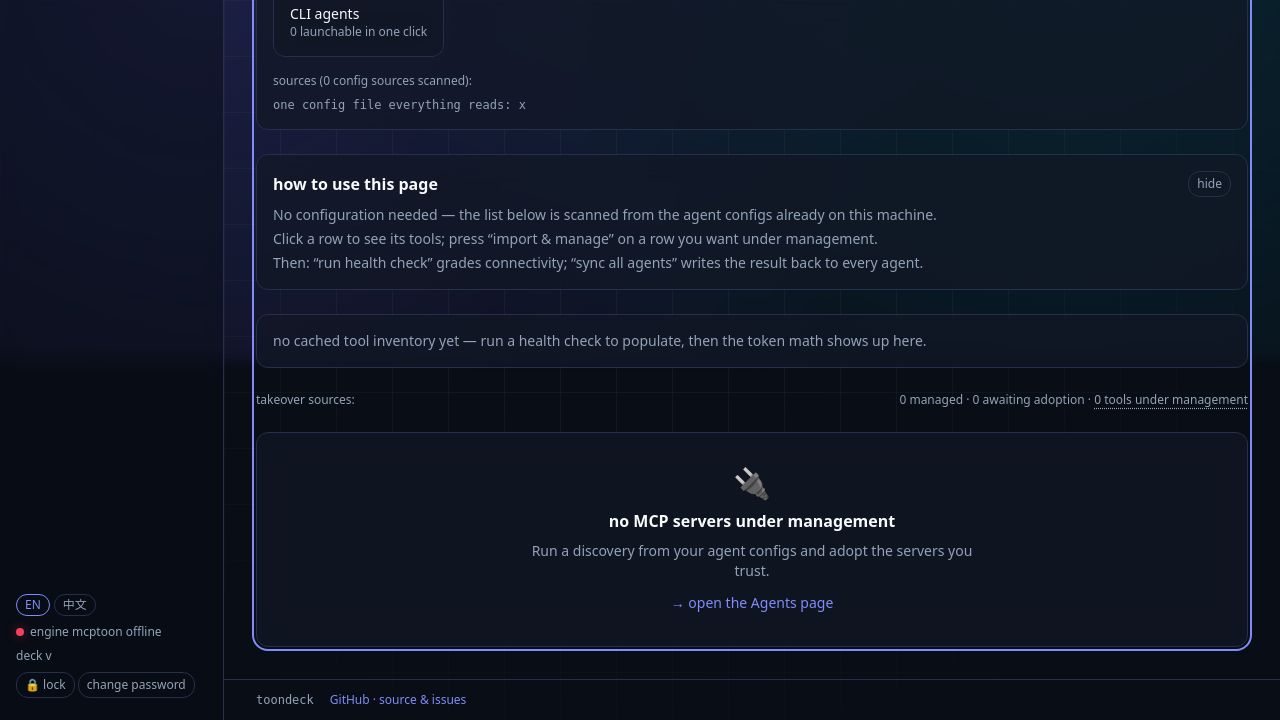
Scenario: R53: portal gate › change-password form posts current+new and reports the outcome
(page scrolled)
Click the button with test id "portal-change": (136, 685) [78,672,195,698]
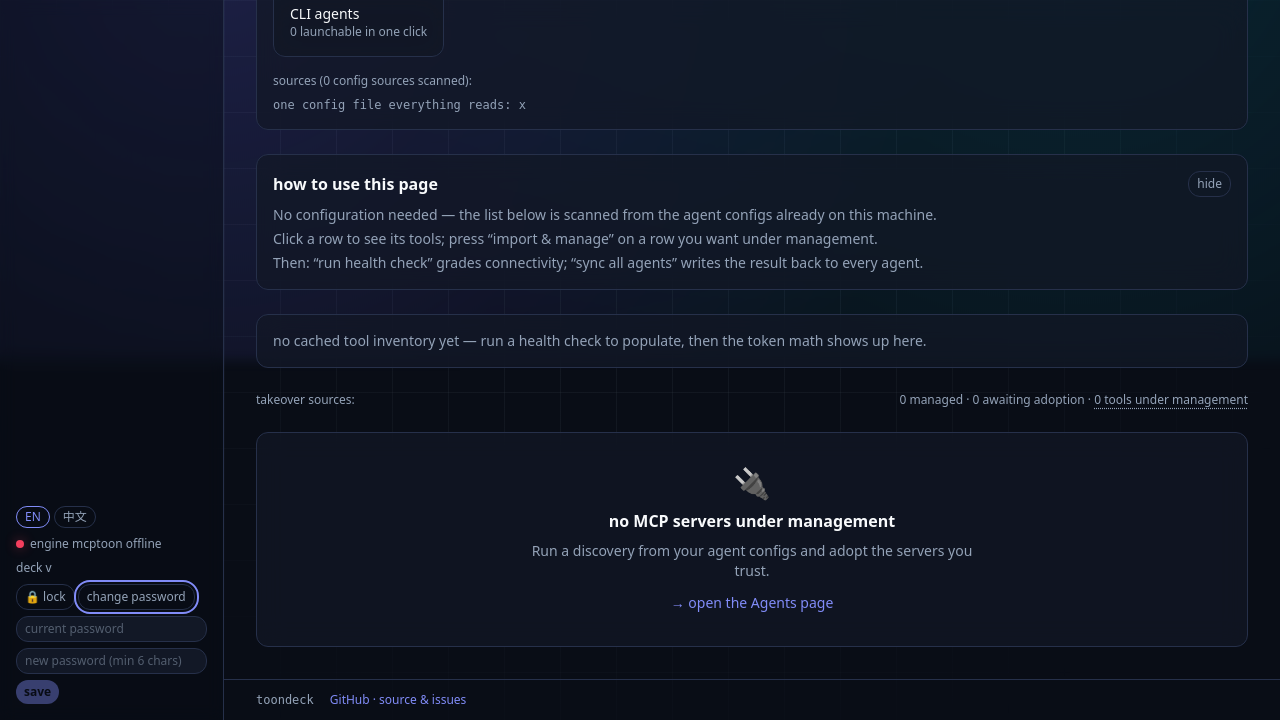
In the password field with test id "portal-cur": (112, 629) [16,616,207,642], type "admin123"
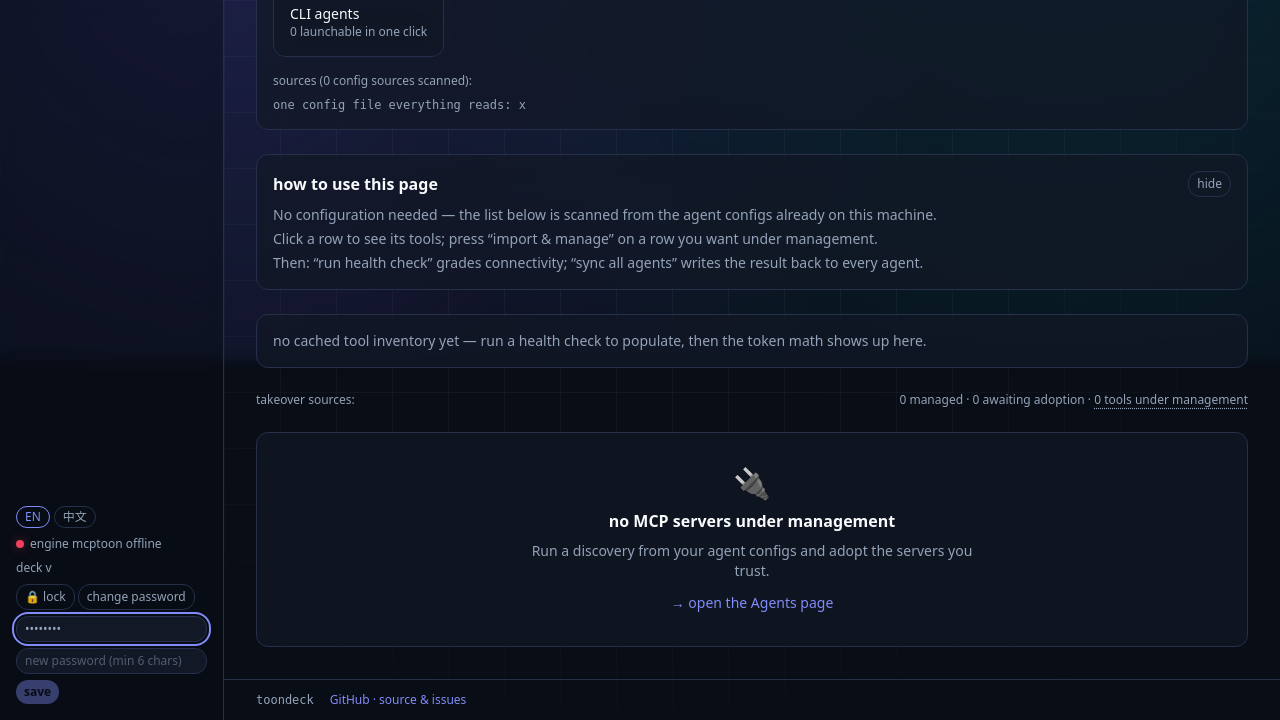
In the password field with test id "portal-new": (112, 661) [16,648,207,674], type "hunter22"
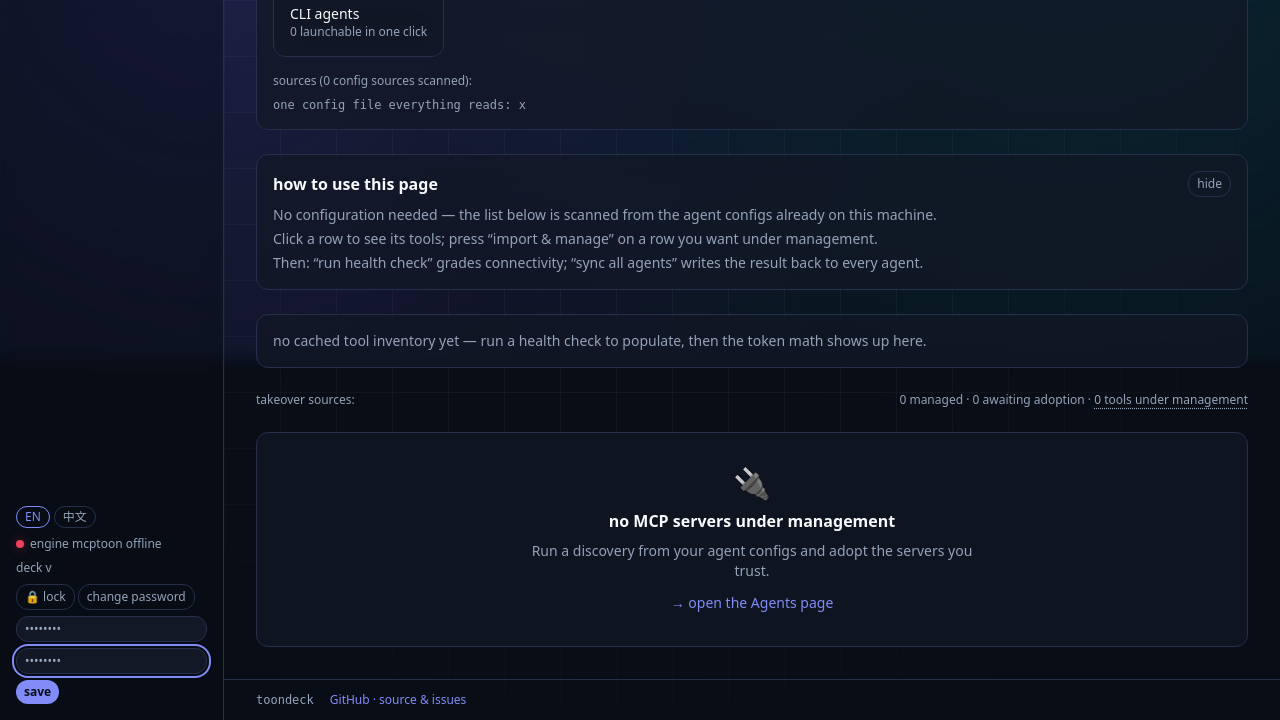
Click the button with test id "portal-save": (38, 692) [16,680,59,704]
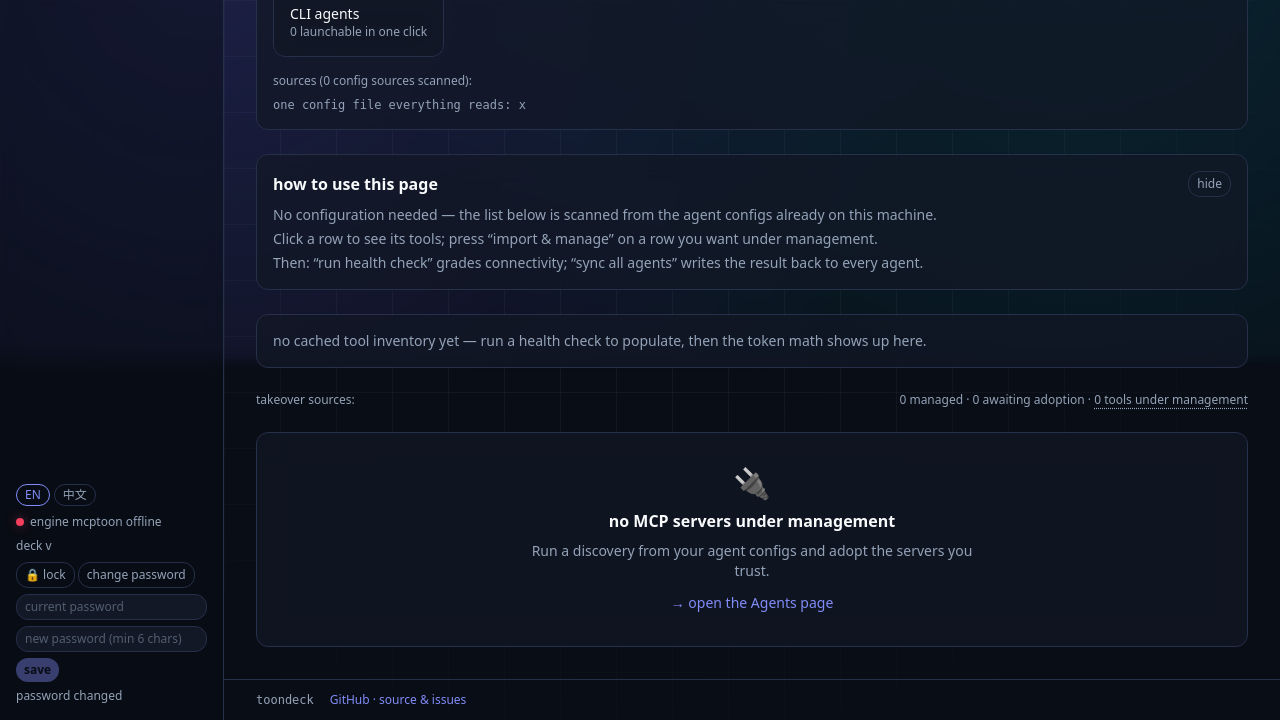
Check: the message reads "password changed", box [16,687,122,704]
